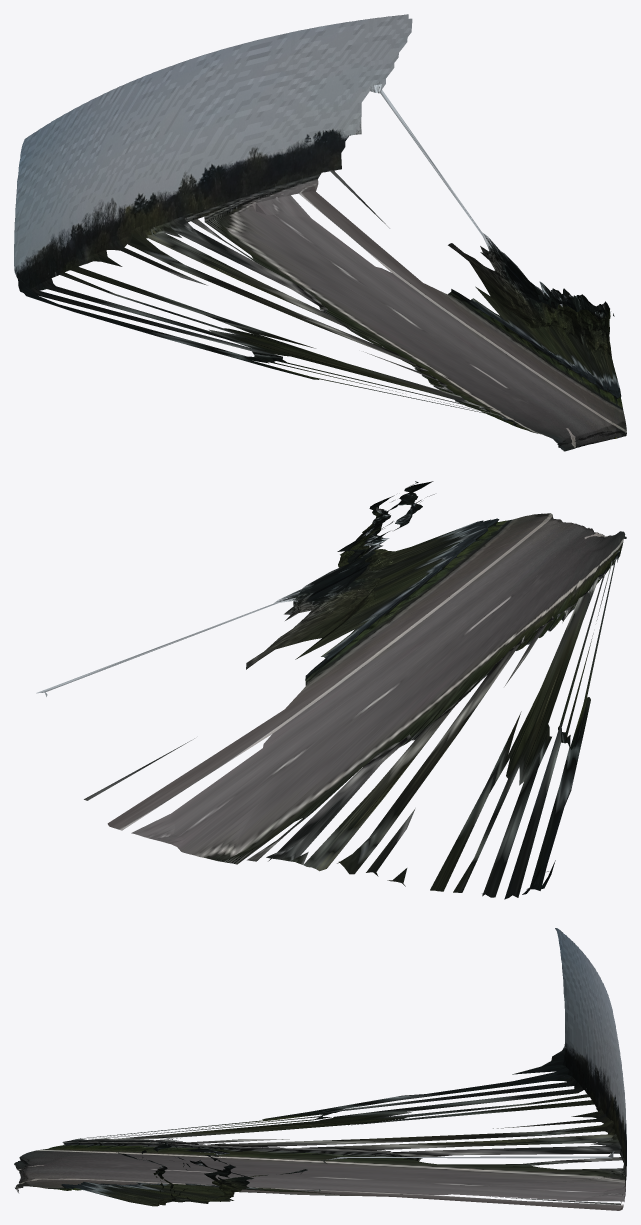
3 views of the same model, one above another, from view 1: azimuth 30°, elevation 25°; view 2: azimuth 150°, elevation 25°; view 3: azimuth 270°, elevation 25° (orthographic). The views are drawn at different scales.
Visible parts, largest first — view 1: defaultobject; view 2: defaultobject; view 3: defaultobject.
Part boxes in pixels (box(x1,y1,x2,y2)): defaultobject: box(14, 14, 626, 451); defaultobject: box(36, 481, 626, 899); defaultobject: box(14, 928, 626, 1210).
Size of the model in its own units: 31.41 by 12.74 by 44.55.
1 material, 1 textured.
